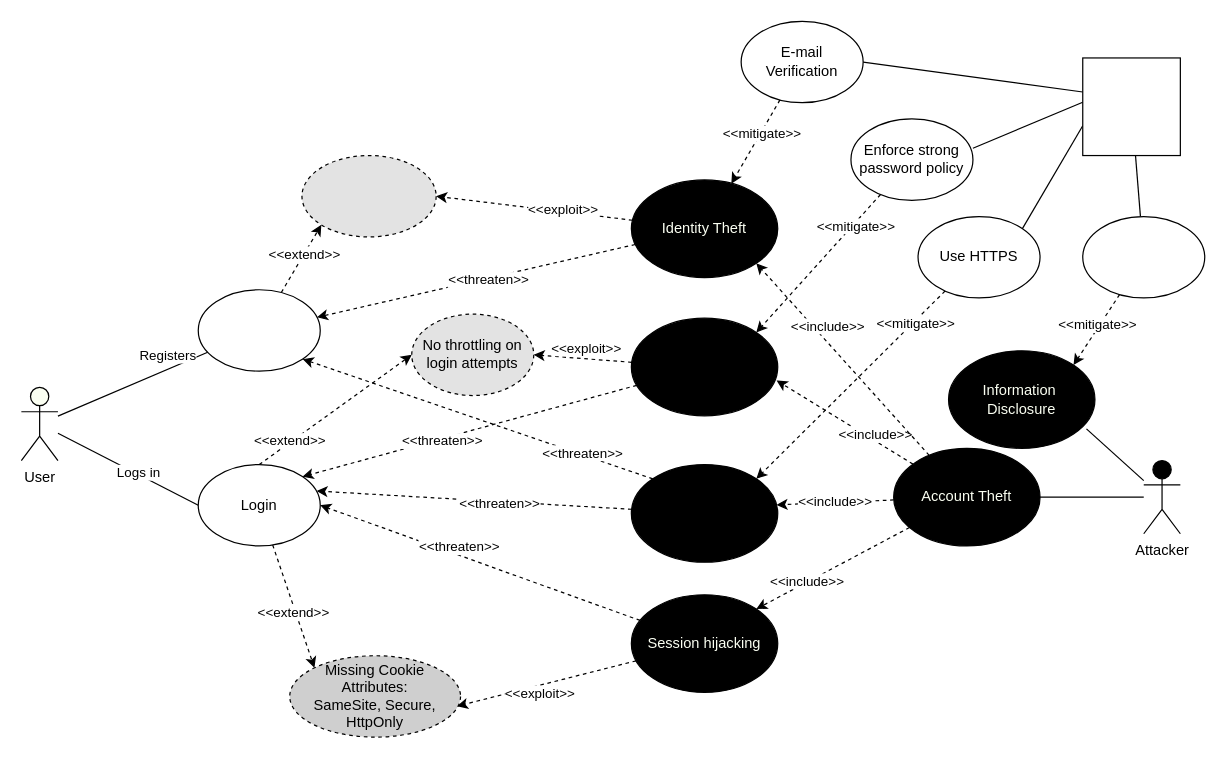
The diagram is 1226 pixels wide and 759 high, and some of its shapes have lost their labels. Here are the shapes that lost their labels. From the top down, the centre of each, then its label:
At (x=1131, y=106): "System".
At (x=368, y=195): "No uniqueness on e-mail".
At (x=1143, y=256): "Generic Error Messages".
At (x=258, y=330): "Register User".
At (x=704, y=366): "Guess account credentials".
At (x=704, y=512): "Man-in-the-middle attack".
